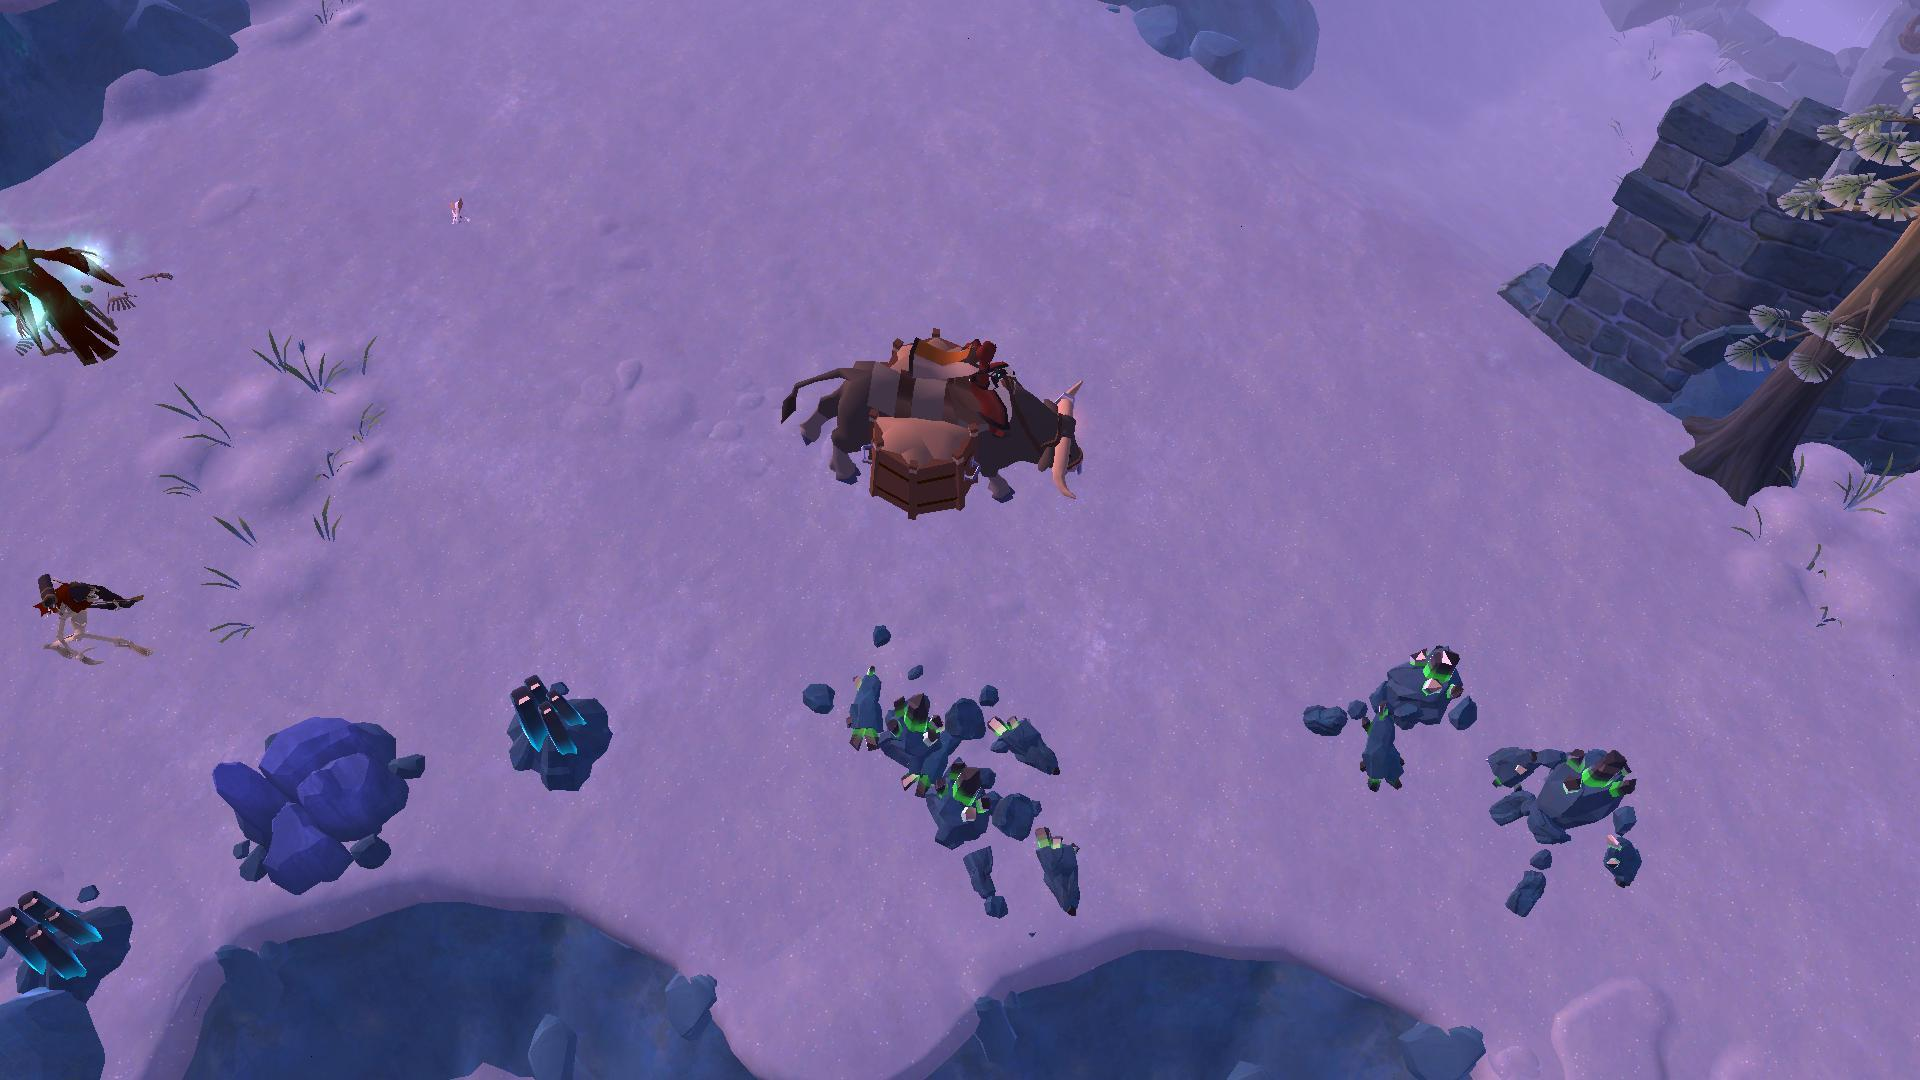enemy_factionUndead: (0, 219, 140, 384)
ore_t4: (0, 878, 103, 986), (502, 671, 589, 764)
rock_t4: (228, 708, 407, 889)
